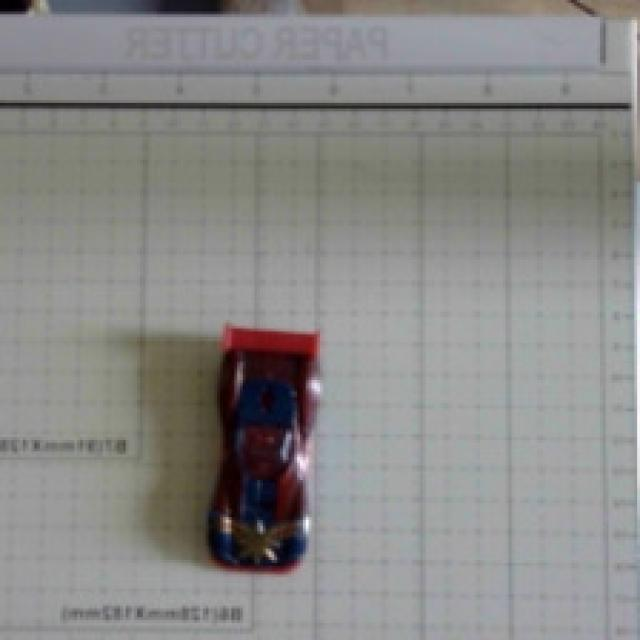Red Car: (149, 282, 368, 602)
